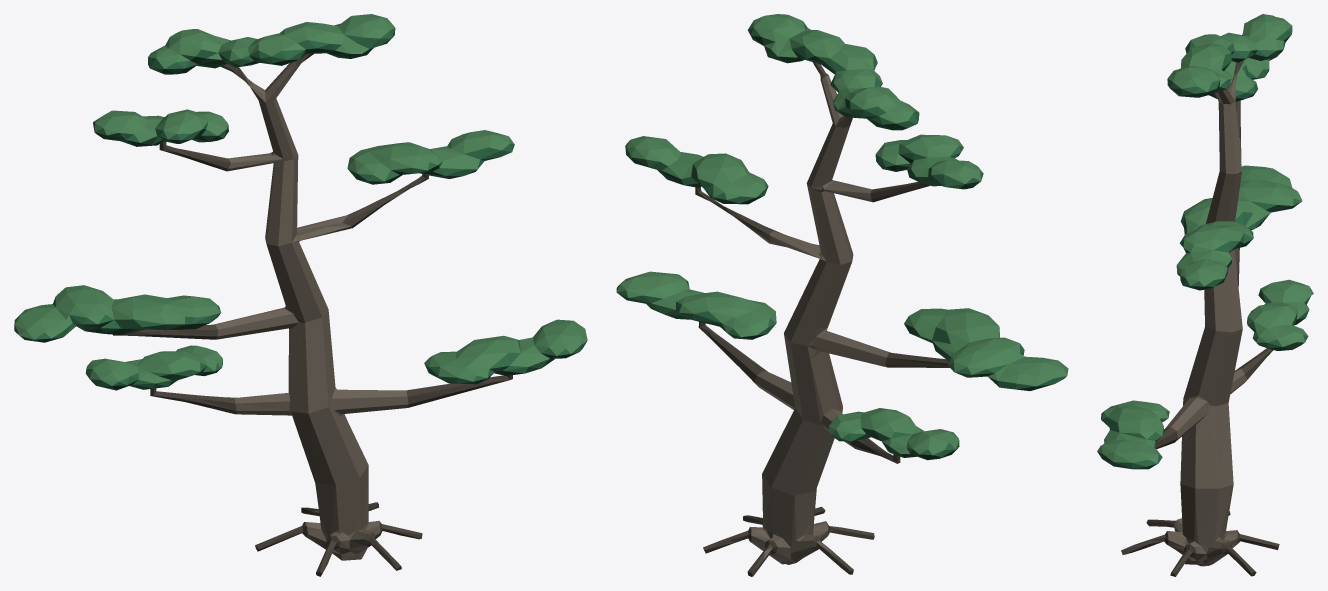
File: ancient-pine-2162-lod1.glb
3 renders of one model, left to right at view 1: azimuth 30°, elevation 25°; view 2: azimuth 150°, elevation 25°; view 3: azimuth 270°, elevation 25°, orthographic. The views are drawn at different scales.
Parts seen in each view (by area): view 1: n12.005, n8.005, n11.005, n9.005, n10.005; view 2: n12.005, n8.005, n11.005, n9.005, n10.005; view 3: n8.005, n12.005, n11.005, n9.005, n10.005.
Part boxes in pixels (bbox=[...]): n12.005: bbox=[14, 14, 587, 385]; n8.005: bbox=[214, 55, 408, 560]; n11.005: bbox=[14, 28, 586, 388]; n9.005: bbox=[113, 53, 512, 576]; n10.005: bbox=[20, 39, 586, 390]; n12.005: bbox=[617, 14, 1068, 454]; n8.005: bbox=[749, 75, 890, 564]; n11.005: bbox=[616, 21, 1066, 456]; n9.005: bbox=[695, 62, 949, 576]; n10.005: bbox=[617, 36, 1066, 460]; n8.005: bbox=[1165, 62, 1247, 566]; n12.005: bbox=[1097, 14, 1313, 463]; n11.005: bbox=[1097, 25, 1311, 468]; n9.005: bbox=[1121, 60, 1279, 576]; n10.005: bbox=[1102, 34, 1312, 469].
Size of the model in its own units: 5.33 by 5.41 by 2.12.
